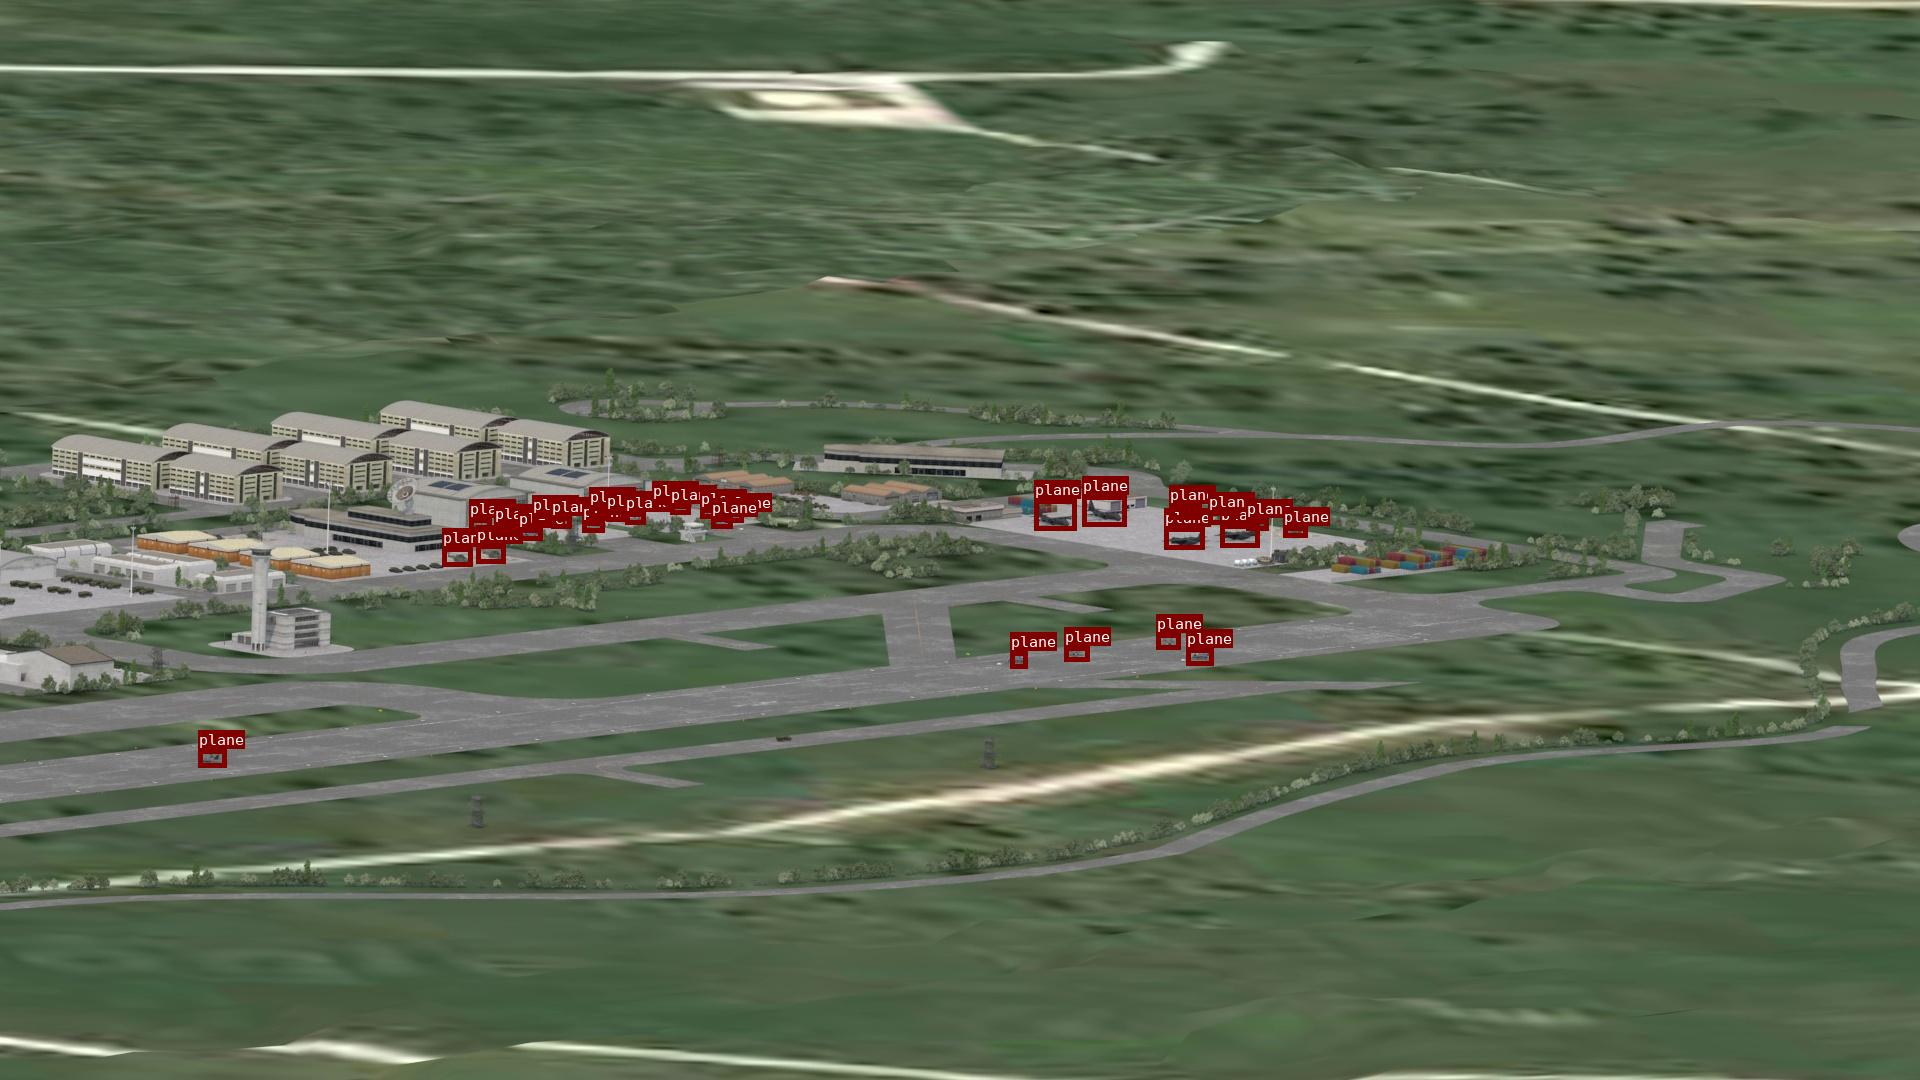plane: (1083, 495, 1126, 526), (1034, 498, 1076, 530), (1220, 524, 1259, 547), (1164, 527, 1204, 549), (442, 547, 472, 566), (476, 545, 505, 563), (1168, 504, 1201, 520), (198, 749, 225, 767), (1185, 647, 1213, 665), (1156, 633, 1180, 649), (1064, 646, 1089, 661), (1208, 512, 1236, 524), (518, 527, 542, 541), (1010, 651, 1027, 669), (469, 518, 491, 531), (495, 524, 517, 535), (1246, 518, 1269, 530), (651, 500, 673, 512), (1283, 526, 1307, 537), (582, 521, 604, 531), (700, 508, 723, 518), (551, 516, 571, 527), (625, 512, 645, 524), (711, 517, 732, 527), (670, 504, 690, 514), (607, 510, 625, 521), (589, 506, 607, 517), (725, 512, 742, 522), (531, 514, 550, 524)
